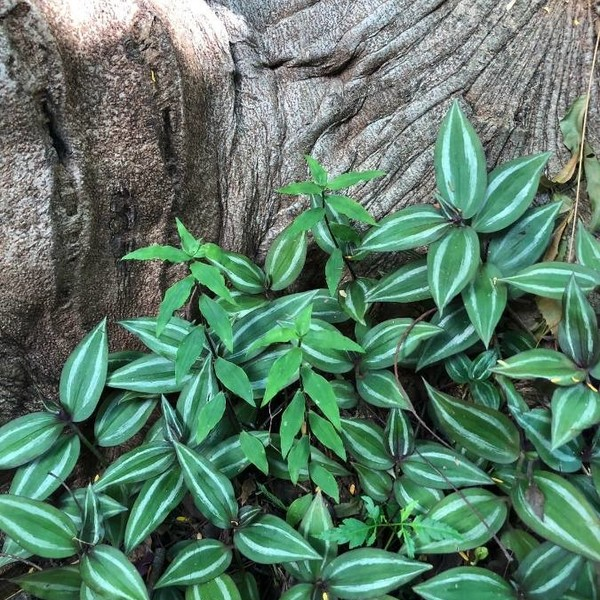obstacle: (47, 230, 563, 560), (383, 115, 587, 339)
